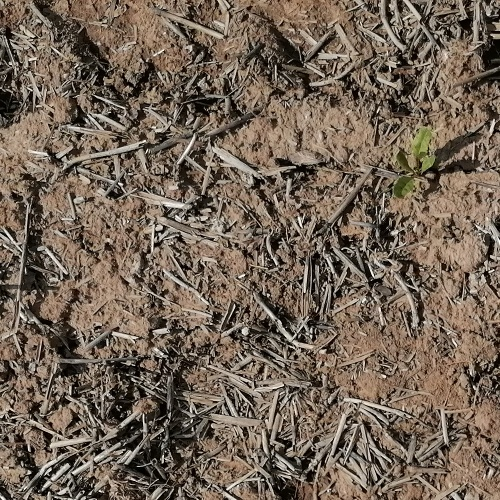beet: (392, 126, 438, 202)
